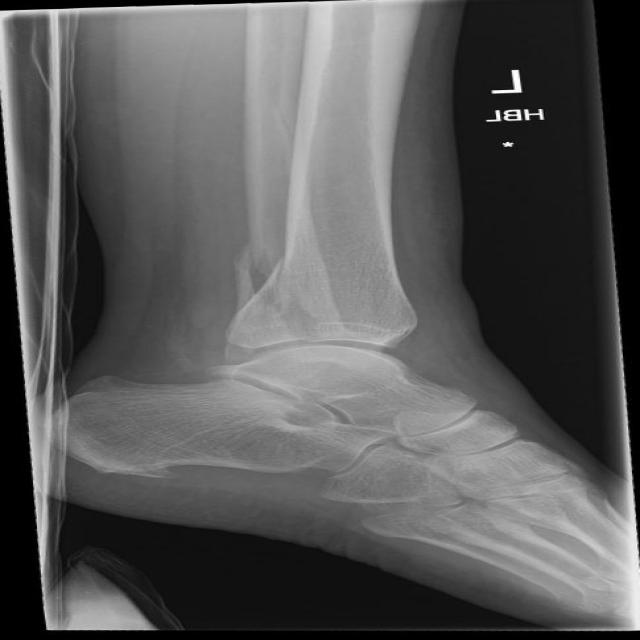Oblique Displaced: (217, 245, 369, 351)
